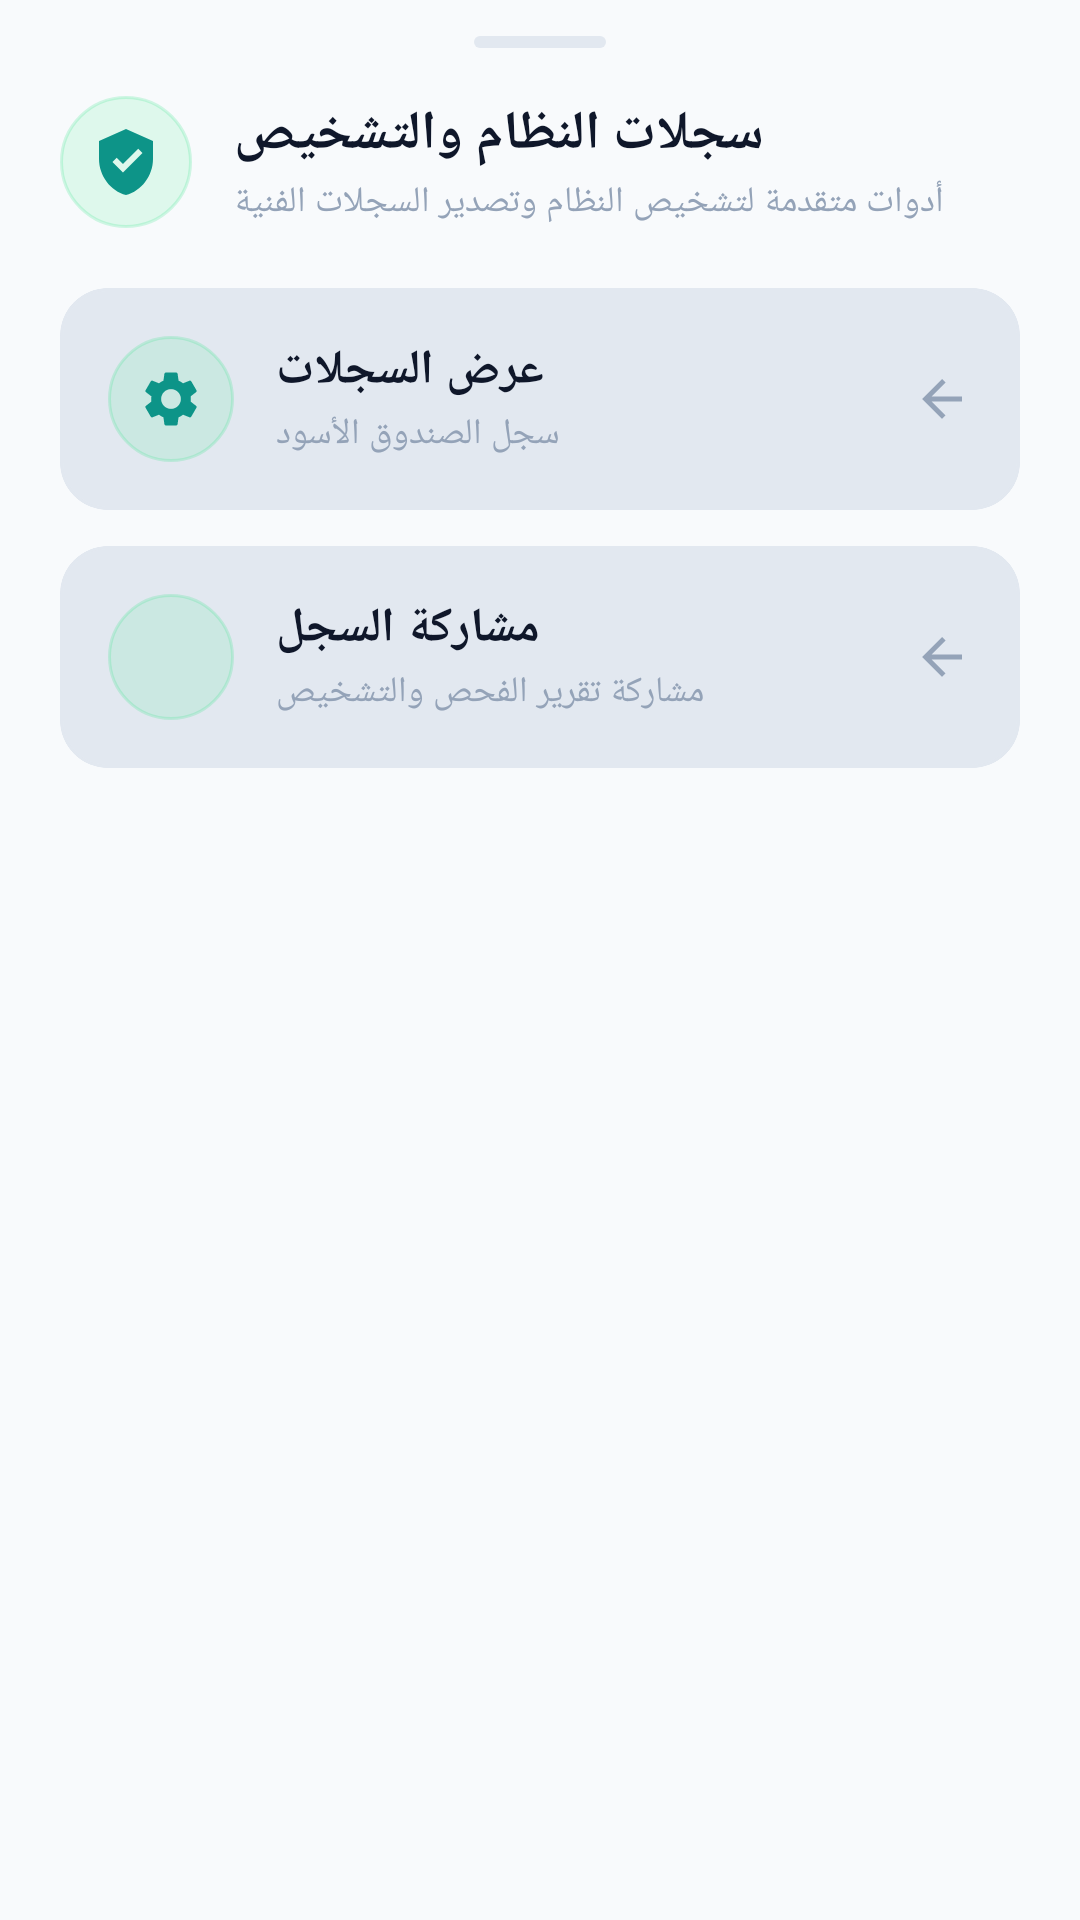

Where to tap for icons on this 1080x1920 app screen, as (x=x, y=y):
arrow back: (x=942, y=399), (x=942, y=657)
settings: (x=171, y=399)
shield device owner: (x=126, y=162)
